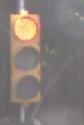Red: (6, 13, 40, 107)
